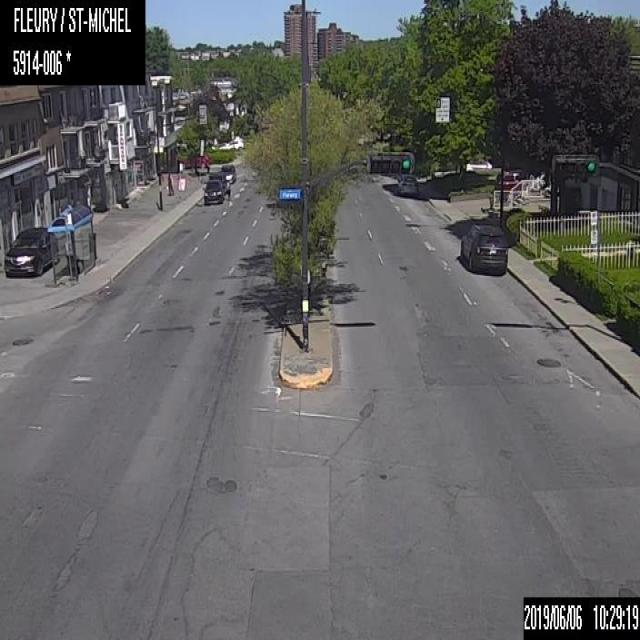pedestrian: (165, 171, 175, 198)
vehicle: (3, 224, 57, 278), (458, 218, 509, 274), (202, 180, 222, 205), (398, 172, 418, 195), (209, 171, 226, 196), (218, 162, 237, 184)
